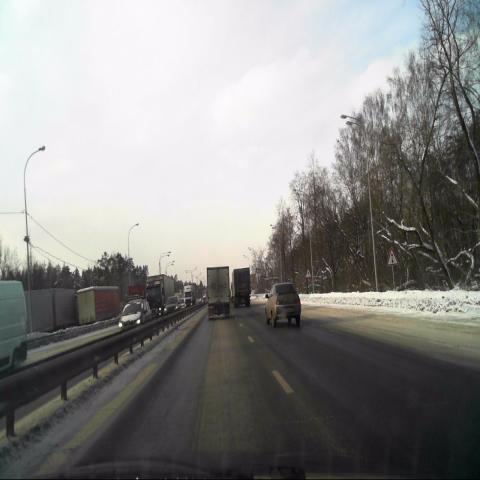1_8: (387, 246, 399, 265)
